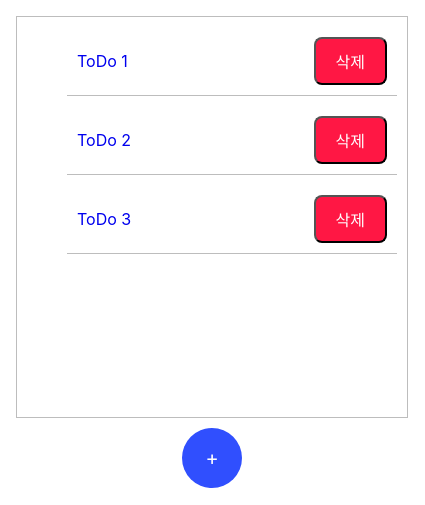
Test: <List /> › deletes toDo item
The image size is (425, 505).
Expected: the link "ToDo 2" is shown, [77,130,131,150]
Click the button "삭제" in the row of "ToDo 2" at point(350, 140), box [314,116,387,164]
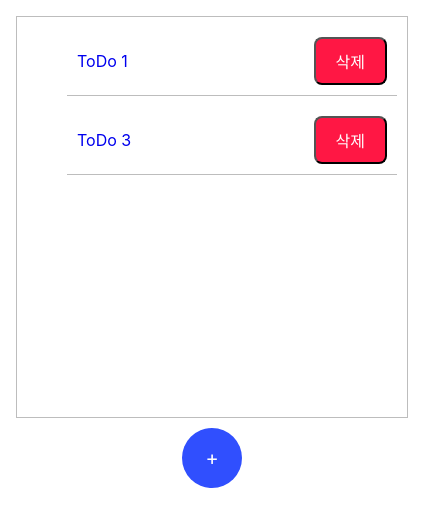
Result: the link "ToDo 2" is gone
